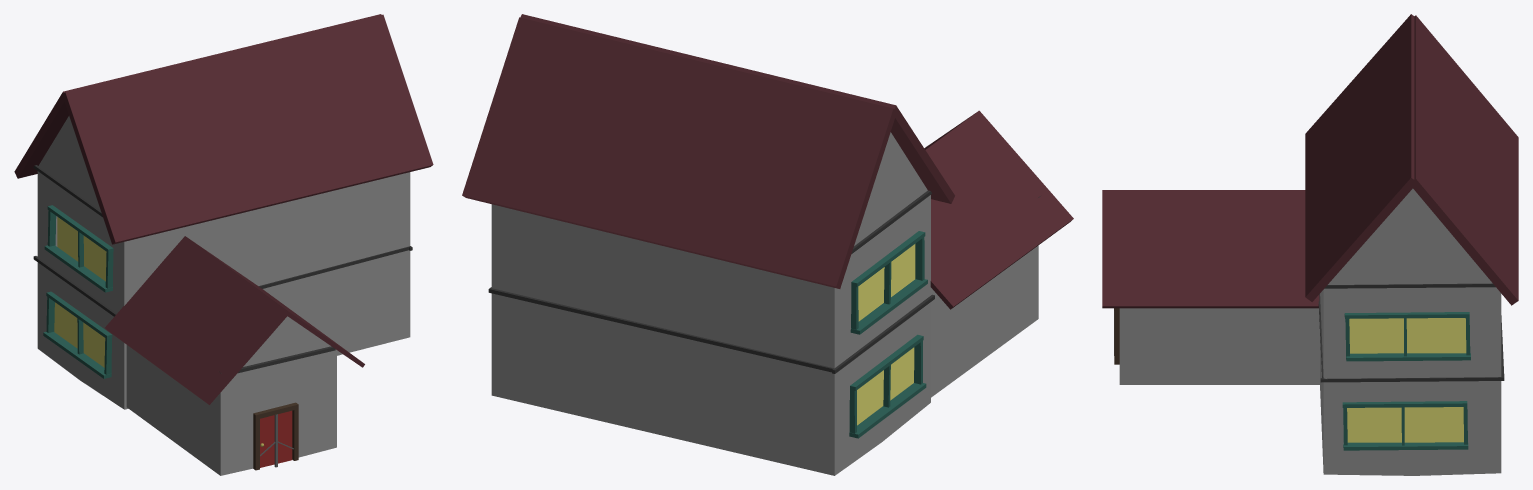
The model's file is House1.fbx.
The picture shows the model from 3 angles, left to right: view 1: azimuth 30°, elevation 25°; view 2: azimuth 150°, elevation 25°; view 3: azimuth 270°, elevation 25°; orthographic projection. The views are drawn at different scales.
Visible parts, largest first — view 1: Cube.005, Cube.001, Cube, Cube.002, Cube.004, Cube.009, Cube.043, Cube.042, Cube.003, Cube.032, Cube.020, Cube.012 (+4 smaller); view 2: Cube.001, Cube.004, Cube.002, Cube, Cube.005, Cube.015, Cube.043, Cube.042, Cube.020, Cube.032, Cube.031, Cube.019 (+1 smaller); view 3: Cube.001, Cube.003, Cube.005, Cube.004, Cube, Cube.040, Cube.041, Cube.024, Cube.028, Cube.014, Cube.023, Cube.027 (+1 smaller).
Boxes of the visible parts, <box> form: Cube.005: <box>62,14,433,244</box>; Cube.001: <box>37,116,410,409</box>; Cube: <box>126,316,336,475</box>; Cube.002: <box>105,236,289,404</box>; Cube.004: <box>14,14,381,178</box>; Cube.009: <box>260,410,292,467</box>; Cube.043: <box>54,302,105,367</box>; Cube.042: <box>57,217,106,281</box>; Cube.003: <box>185,236,364,367</box>; Cube.032: <box>44,245,112,292</box>; Cube.020: <box>43,331,111,378</box>; Cube.012: <box>259,246,410,288</box>; Cube.001: <box>491,132,930,475</box>; Cube.004: <box>462,17,896,288</box>; Cube.002: <box>925,111,1073,309</box>; Cube: <box>931,245,1038,397</box>; Cube.005: <box>520,14,954,203</box>; Cube.015: <box>489,288,833,372</box>; Cube.043: <box>857,347,914,425</box>; Cube.042: <box>858,244,915,321</box>; Cube.020: <box>849,383,926,438</box>; Cube.032: <box>850,279,927,334</box>; Cube.031: <box>851,231,925,286</box>; Cube.019: <box>850,334,923,390</box>; Cube.001: <box>1320,188,1501,475</box>; Cube.003: <box>1102,190,1319,308</box>; Cube.005: <box>1305,14,1415,301</box>; Cube.004: <box>1409,15,1518,305</box>; Cube: <box>1119,308,1319,384</box>; Cube.040: <box>1347,407,1463,442</box>; Cube.041: <box>1349,318,1466,353</box>; Cube.024: <box>1343,442,1468,450</box>; Cube.028: <box>1346,353,1470,361</box>; Cube.014: <box>1320,376,1504,382</box>; Cube.023: <box>1342,401,1467,407</box>; Cube.027: <box>1344,312,1469,318</box>.
Size of the model in its own units: 1422 by 1224 by 1506.
